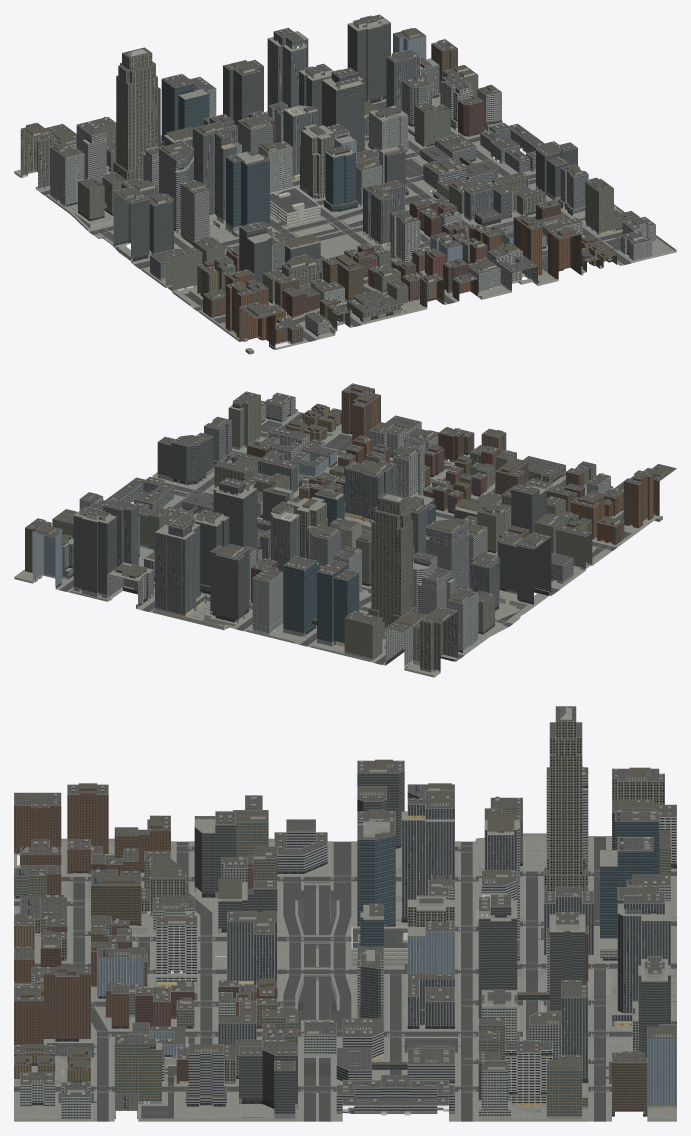
Rendered from golden_city.glb.
3 views of the same model, one above another, from view 1: azimuth 30°, elevation 25°; view 2: azimuth 150°, elevation 25°; view 3: azimuth 270°, elevation 25° (orthographic). The views are drawn at different scales.
Parts seen in each view (by area): view 1: Object_58, Object_42, Object_48, Object_106, Object_32, Object_46, Object_26, Object_110, Object_56, Object_54, Object_36, Object_148 (+21 smaller); view 2: Object_58, Object_42, Object_48, Object_106, Object_46, Object_32, Object_26, Object_54, Object_56, Object_36, Object_148, Object_52 (+19 smaller); view 3: Object_58, Object_26, Object_16, Object_48, Object_32, Object_42, Object_36, Object_106, Object_46, Object_52, Object_54, Object_148 (+22 smaller).
Part boxes in pixels (bbox=[...]): Object_58: bbox=[21, 15, 654, 329]; Object_42: bbox=[113, 23, 577, 283]; Object_48: bbox=[121, 32, 512, 244]; Object_106: bbox=[20, 53, 545, 318]; Object_32: bbox=[14, 15, 675, 354]; Object_46: bbox=[78, 71, 639, 328]; Object_26: bbox=[15, 19, 675, 349]; Object_110: bbox=[50, 89, 655, 335]; Object_56: bbox=[158, 79, 357, 227]; Object_54: bbox=[21, 14, 655, 330]; Object_36: bbox=[203, 203, 581, 347]; Object_148: bbox=[150, 121, 588, 278]; Object_58: bbox=[26, 383, 675, 632]; Object_42: bbox=[73, 436, 551, 619]; Object_48: bbox=[102, 453, 499, 614]; Object_106: bbox=[214, 453, 578, 670]; Object_46: bbox=[52, 395, 596, 659]; Object_32: bbox=[14, 383, 676, 675]; Object_26: bbox=[14, 402, 658, 677]; Object_54: bbox=[25, 383, 676, 632]; Object_56: bbox=[283, 495, 435, 643]; Object_36: bbox=[334, 388, 659, 544]; Object_148: bbox=[120, 420, 573, 587]; Object_52: bbox=[31, 385, 670, 624]; Object_58: bbox=[14, 706, 676, 1110]; Object_26: bbox=[14, 788, 676, 1121]; Object_16: bbox=[14, 836, 676, 1121]; Object_48: bbox=[218, 805, 670, 1078]; Object_32: bbox=[14, 706, 676, 1121]; Object_42: bbox=[194, 771, 670, 1113]; Object_36: bbox=[14, 788, 170, 1044]; Object_106: bbox=[34, 721, 664, 1081]; Object_46: bbox=[14, 806, 670, 1116]; Object_52: bbox=[17, 759, 673, 1066]; Object_54: bbox=[14, 706, 676, 1110]; Object_148: bbox=[185, 792, 519, 1111].
Bounding box in the file's own units: 873 × 427 × 873.
Materials: 90 (49 with a texture image).
